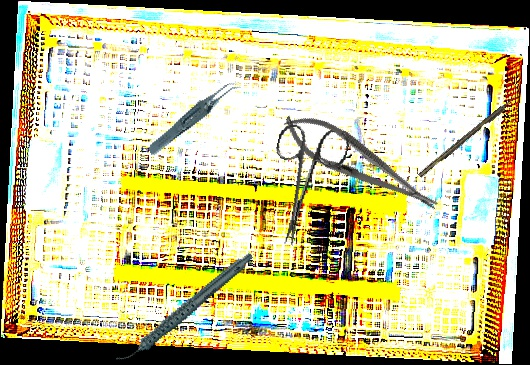Handpiece: (100, 252, 269, 365)
Hook Surgical: (417, 94, 519, 179)
Iris Scissors: (255, 119, 352, 253)
Needle Holder: (275, 102, 446, 226)
Tissue Forceps: (137, 79, 253, 157)
